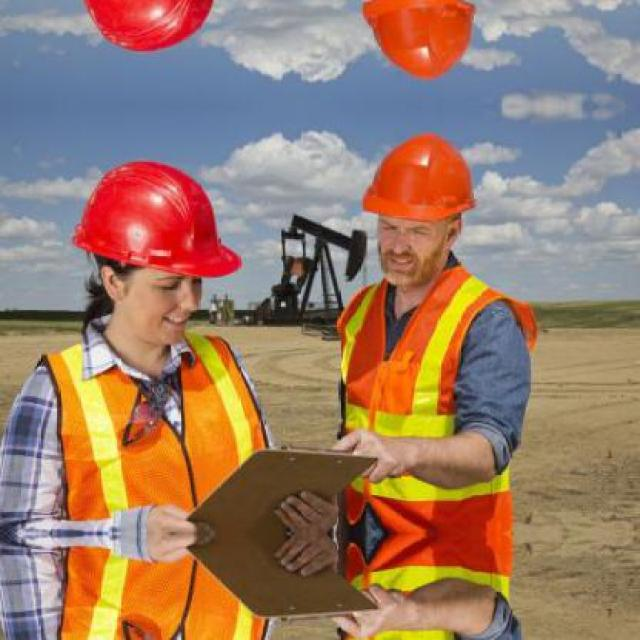helmet: (61, 147, 238, 354), (347, 123, 490, 292), (346, 0, 491, 91), (59, 0, 238, 66)
